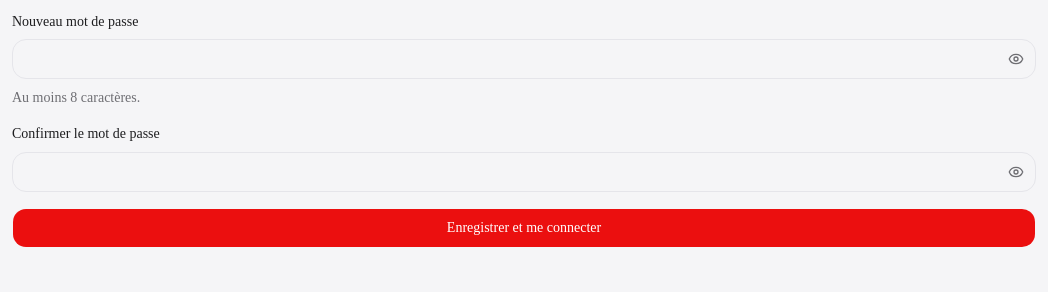
Test: ResetForm › flags a mismatch on the confirmation field
Type "NouveauMdp2026!" into the password field labelled "Nouveau mot de passe" at (524, 59), box [12,39,1036,79]
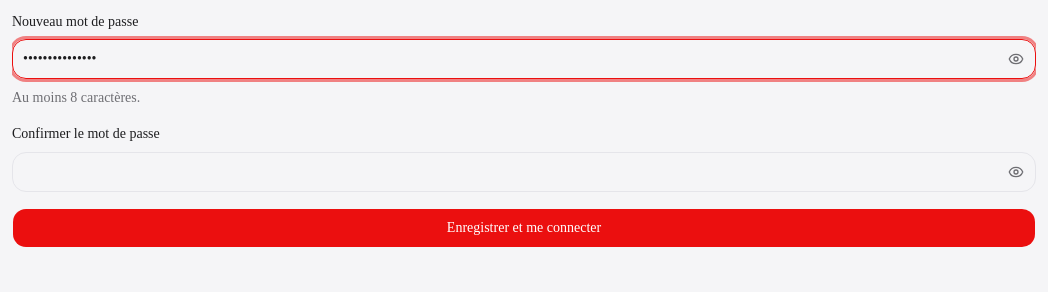
Type "NouveauMdp2026" into the password field labelled "Confirmer le mot de passe" at (524, 172), box [12,152,1036,192]
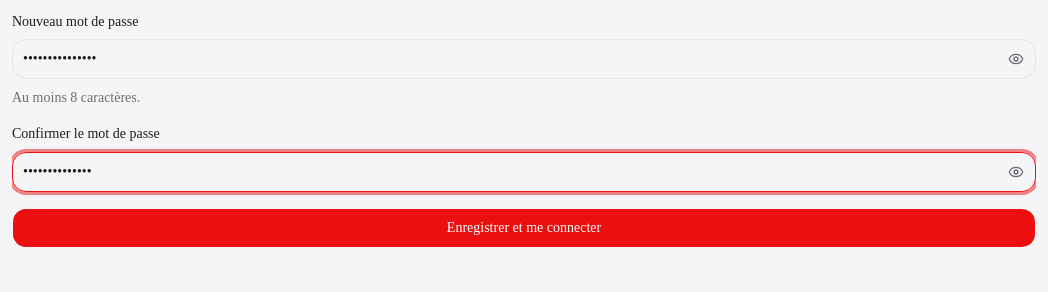
Click the button "Enregistrer et me connecter" at (524, 228), box [12,208,1036,248]
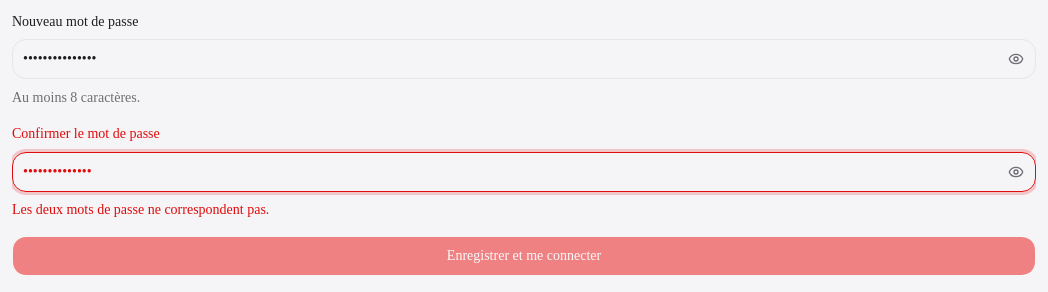
Expected: the text "Les deux mots de passe ne correspondent pas." is shown, [12,202,269,216]
